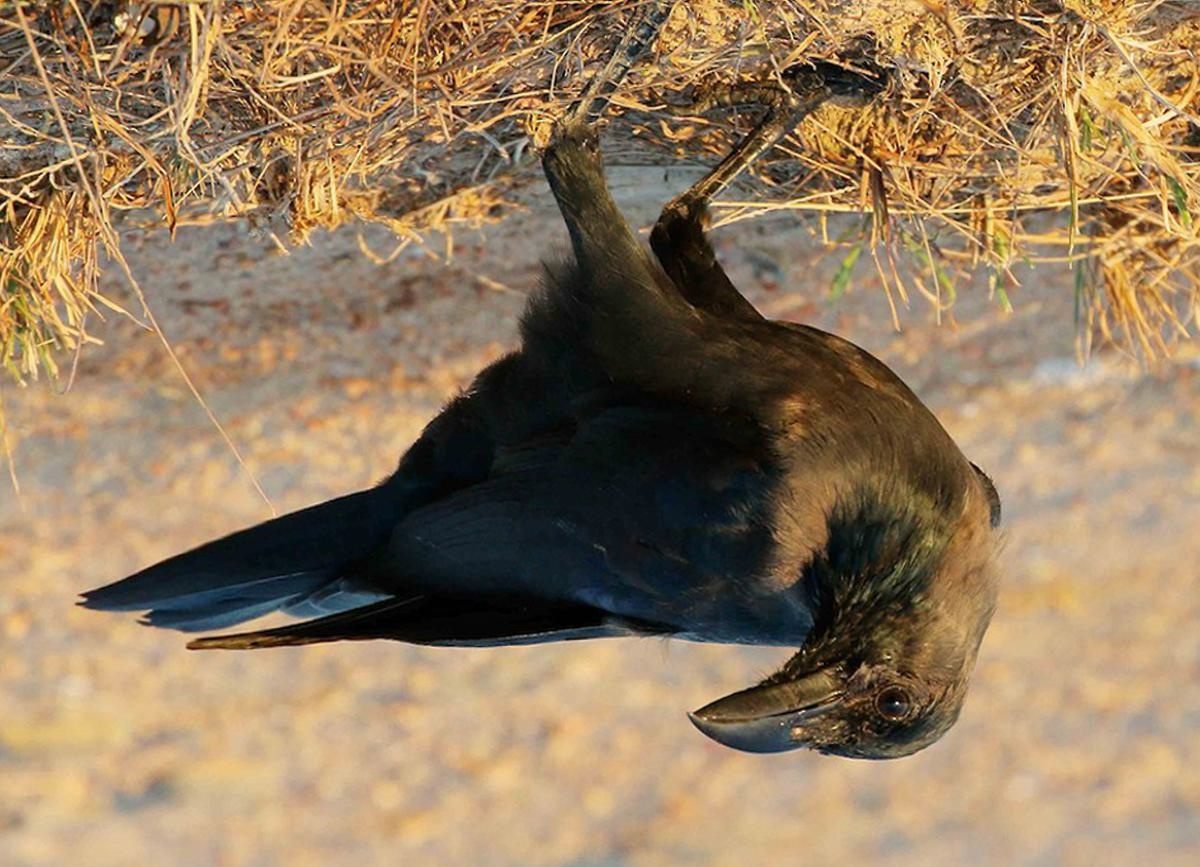crow: (111, 121, 1024, 779)
